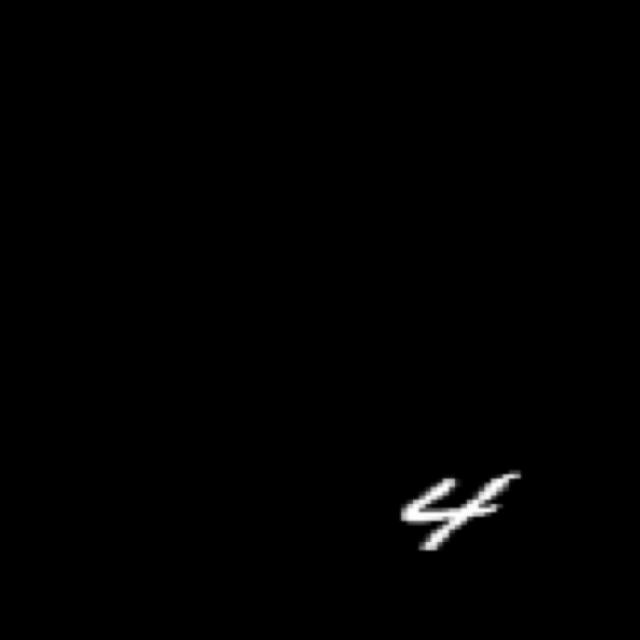four -4-: (391, 467, 524, 564)
